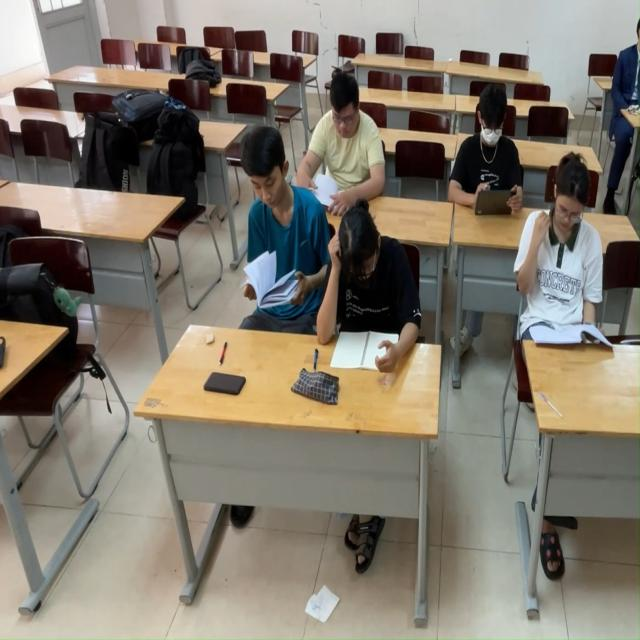read: (520, 148, 620, 390), (218, 138, 312, 346), (318, 202, 420, 385), (450, 75, 527, 231), (311, 80, 393, 199)
